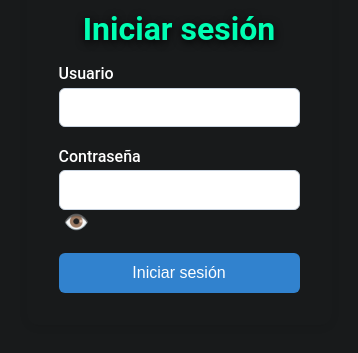
Test: en la página de Login › debería mostrar errores de validación al enviar el formulario vacío
Click the button "Iniciar sesión".
click(179, 273)  # box [58,253,300,293]
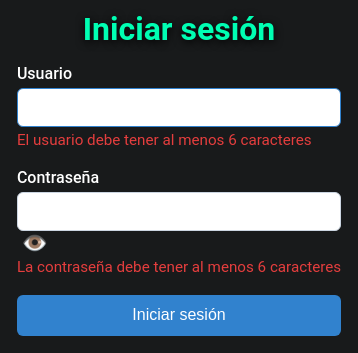
Now the text "El usuario debe tener al menos 6 caracteres" is shown, box [17,131,312,149]
Now the text "La contraseña debe tener al menos 6 caracteres" is shown, box [17,258,341,276]
